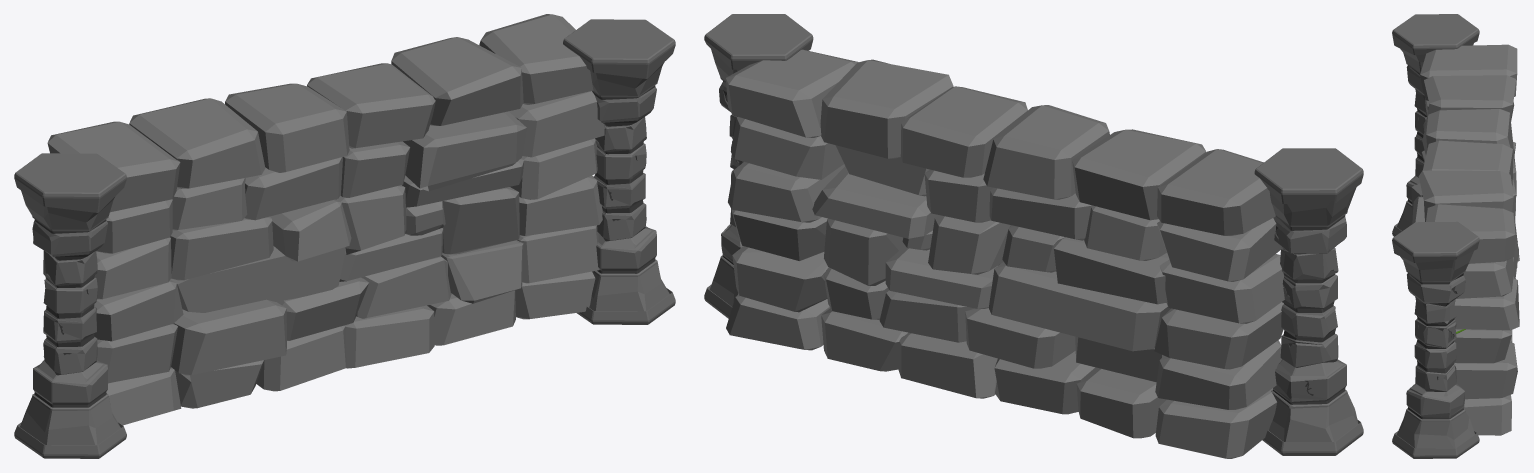
Rendered from UI_Deckplace.fbx.
3 views of the same model, side by side, from view 1: azimuth 30°, elevation 25°; view 2: azimuth 150°, elevation 25°; view 3: azimuth 270°, elevation 25° (orthographic). The views are drawn at different scales.
Visible parts, largest first — view 1: Säule_002; view 2: Säule_002; view 3: Säule_002.
Boxes of the visible parts, x1,y1,x2,y2 form: Säule_002: [14, 14, 675, 458]; Säule_002: [704, 14, 1363, 458]; Säule_002: [1392, 14, 1519, 458].
Size of the model in its own units: 587 by 237 by 132.
